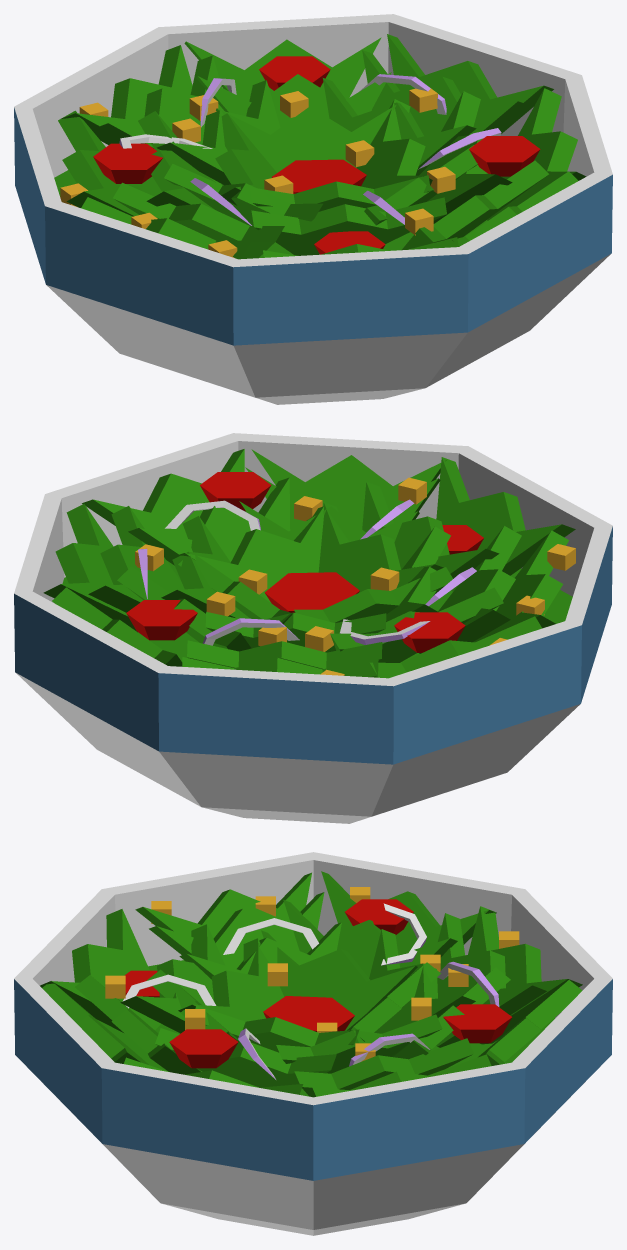
File: R_Salad_1.fbx
3 views of the same model, one above another, from view 1: azimuth 30°, elevation 25°; view 2: azimuth 150°, elevation 25°; view 3: azimuth 270°, elevation 25° (orthographic). The views are drawn at different scales.
Visible parts, largest first — view 1: R_Salad_1; view 2: R_Salad_1; view 3: R_Salad_1.
Boxes of the visible parts, box(x1,y1,x2,y2) form: R_Salad_1: box(14, 14, 612, 404); R_Salad_1: box(14, 433, 612, 823); R_Salad_1: box(14, 852, 612, 1235).
Bounding box in the file's own units: 161 × 161 × 60.28.
